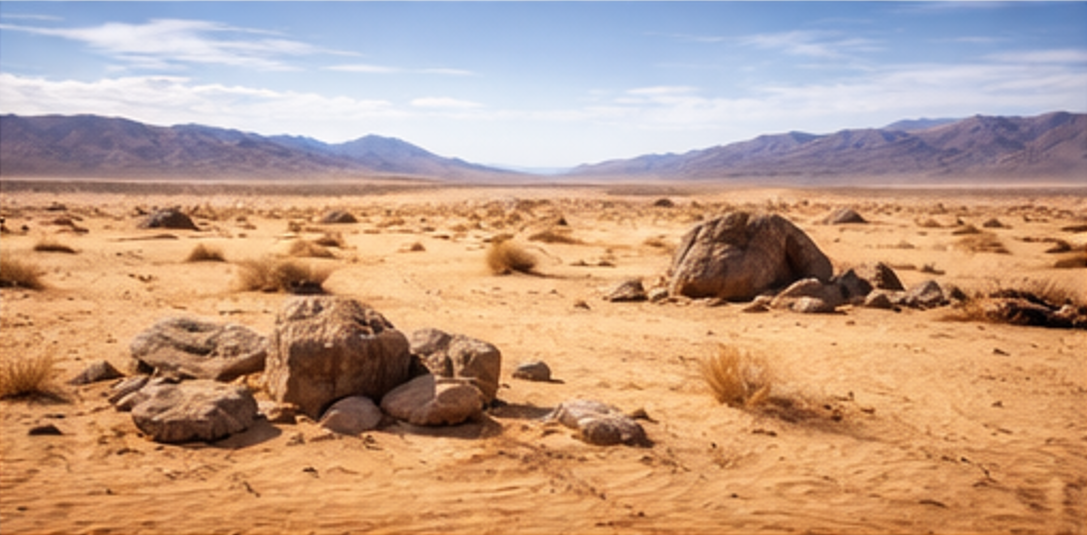rocks: (263, 295, 409, 418), (669, 211, 831, 299), (131, 316, 266, 379), (131, 379, 255, 442), (410, 328, 500, 401), (381, 374, 482, 423), (547, 399, 648, 443), (319, 396, 382, 433), (68, 360, 122, 385), (901, 279, 947, 307), (138, 208, 197, 229), (604, 278, 647, 301), (511, 361, 550, 381), (822, 207, 866, 223), (320, 209, 357, 222)
